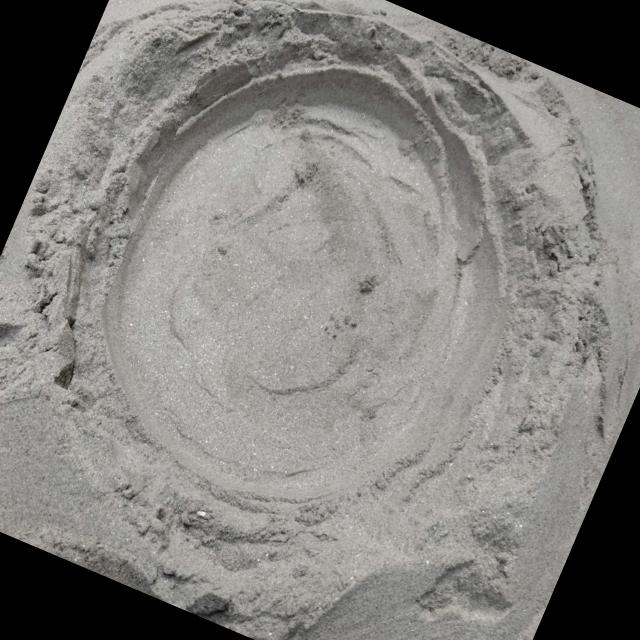C40: (104, 44, 506, 503)
